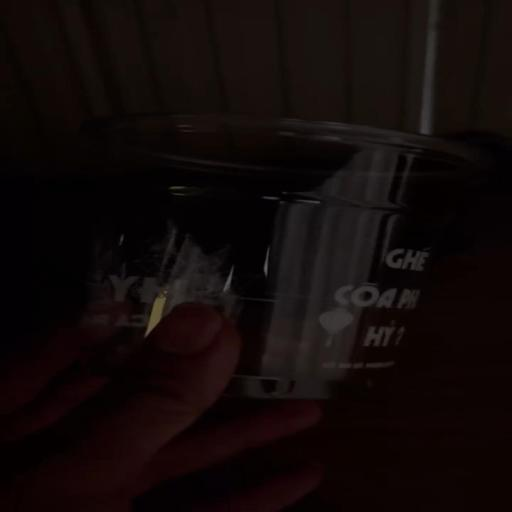ly_giay: (63, 114, 470, 399)
